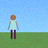person: (8, 15, 18, 39)
